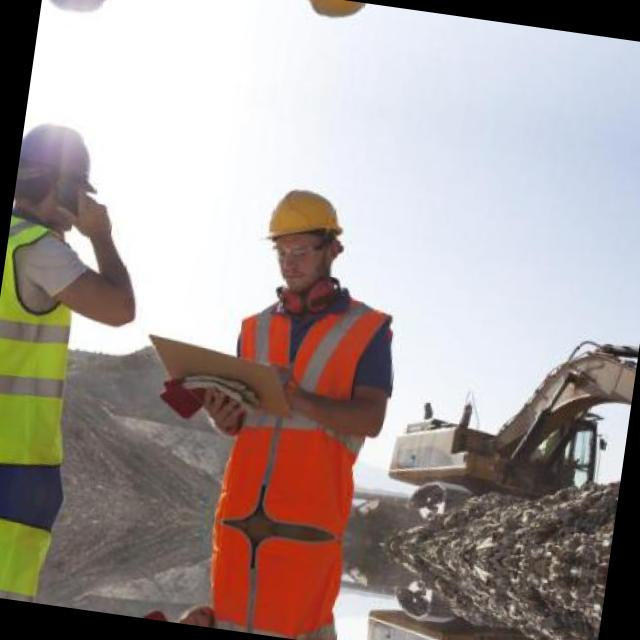helmet: (243, 165, 358, 305), (12, 114, 108, 232), (280, 0, 384, 44), (40, 0, 130, 26)
